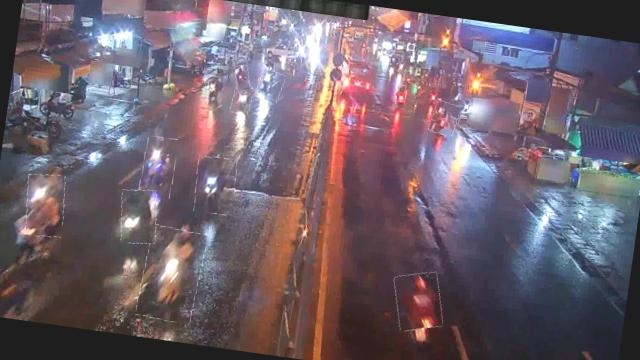Bike: (136, 224, 206, 324), (389, 268, 446, 334), (21, 172, 68, 240), (192, 154, 238, 216), (138, 134, 178, 200), (116, 187, 160, 247), (428, 100, 459, 136), (37, 90, 73, 119), (254, 68, 284, 102), (230, 85, 253, 116), (232, 64, 250, 92), (206, 76, 223, 103), (394, 85, 407, 108)
